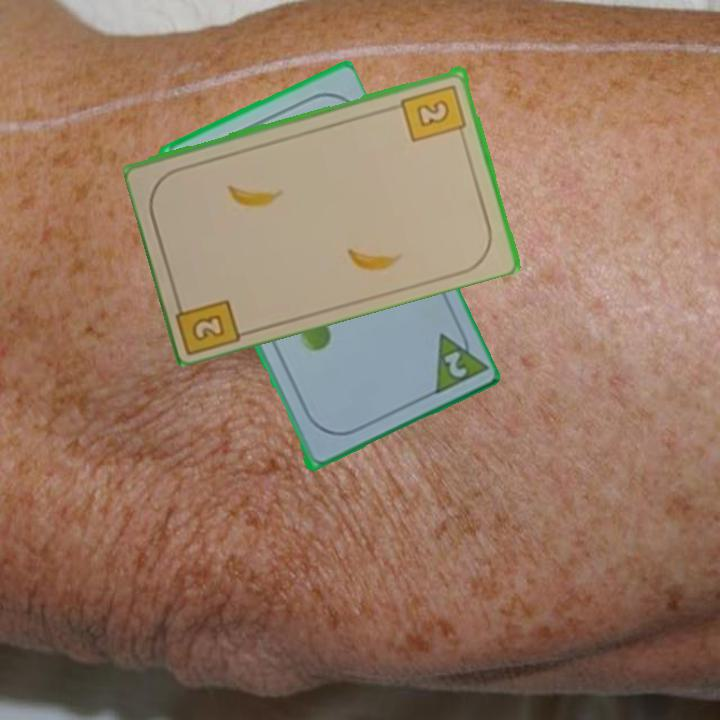2b: (171, 291, 246, 355), (398, 81, 469, 144)
2p: (439, 347, 469, 381)
